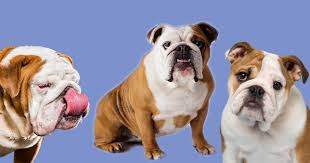Bulldog: (93, 21, 218, 159), (1, 37, 91, 163), (223, 41, 309, 163)
